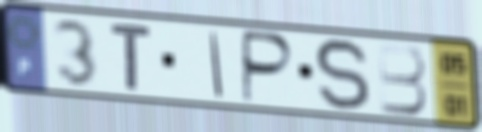3: (51, 17, 101, 89)
B: (375, 41, 430, 117)
I: (207, 29, 226, 100)
P: (239, 27, 297, 107)
S: (312, 36, 374, 114)
T: (107, 21, 155, 94)
